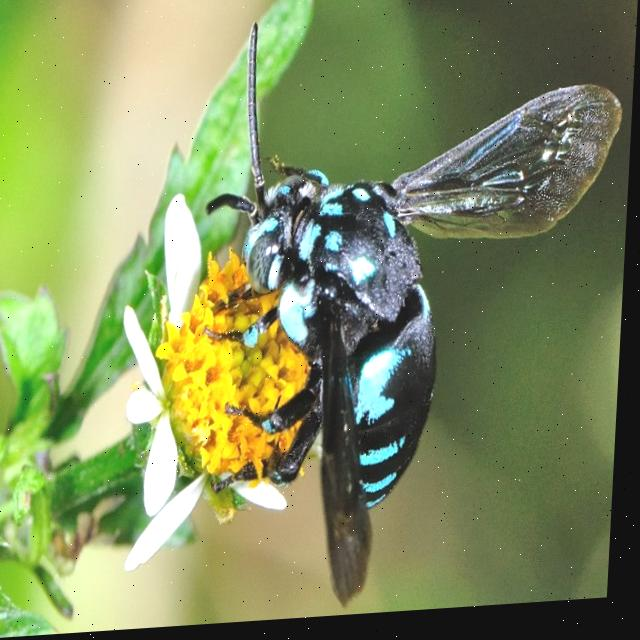Thyreus: (189, 0, 628, 619)
